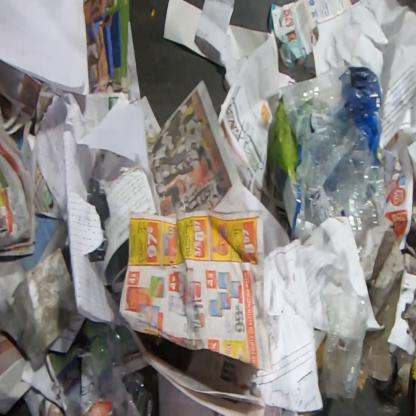cardboard: (401, 290, 416, 342)
rigid_plastic: (87, 319, 156, 415)
soft_plastic: (280, 64, 387, 263), (318, 286, 371, 401), (267, 100, 300, 186)
